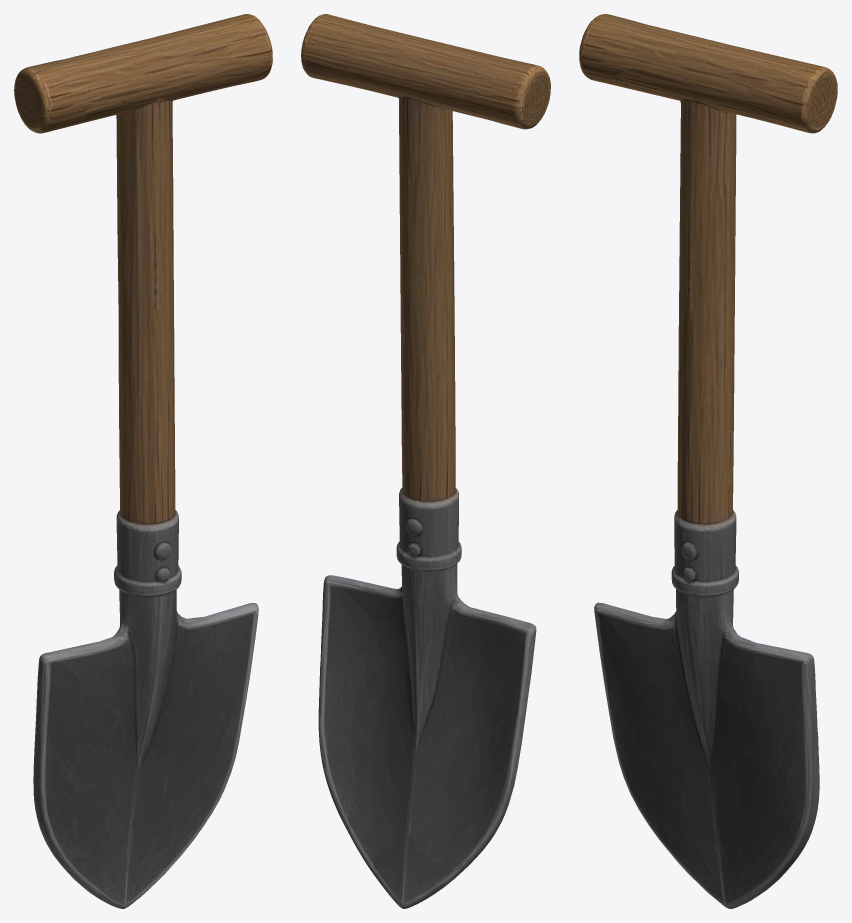
File: shovel.glb
The picture shows the model from 3 angles, left to right: view 1: azimuth 30°, elevation 25°; view 2: azimuth 150°, elevation 25°; view 3: azimuth 330°, elevation 25°; orthographic projection. The views are drawn at different scales.
Bounding box in the file's own units: 0.5195 × 1.9 × 0.1805.
Materials: 1 (1 with a texture image).
